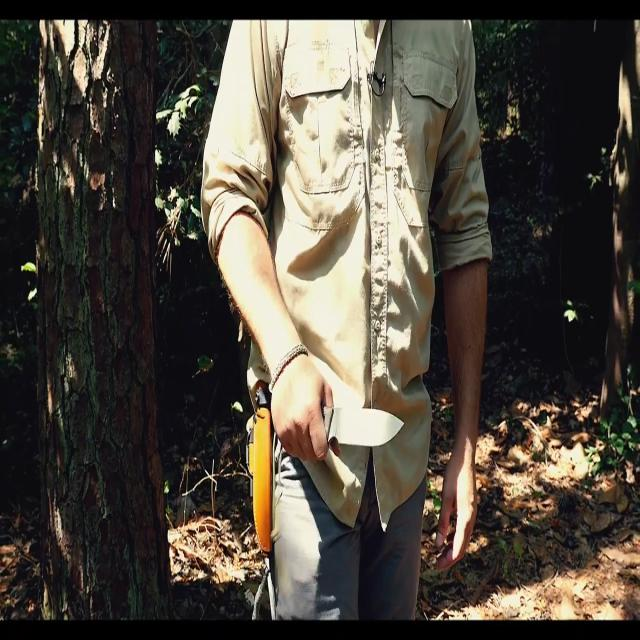knife: (321, 400, 407, 458)
